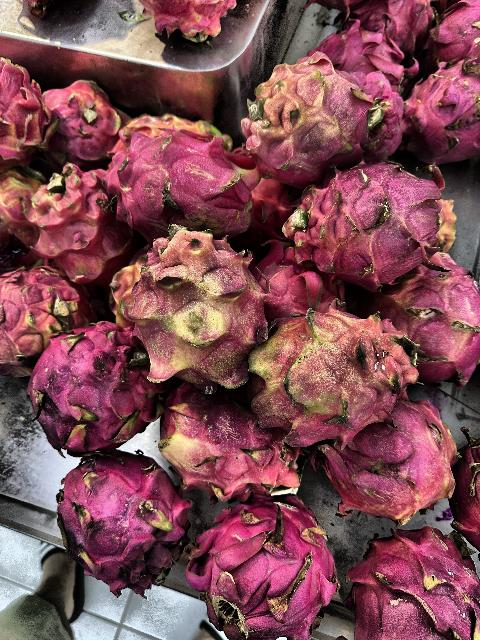buah-naga-belum-matang: (241, 304, 412, 434), (160, 383, 324, 511), (117, 230, 253, 378), (29, 168, 153, 288), (246, 49, 366, 164), (0, 268, 100, 370), (0, 47, 50, 156), (0, 168, 54, 248)
buah-naga-matang: (42, 438, 202, 580), (187, 491, 331, 632), (332, 520, 480, 640), (295, 162, 449, 274), (28, 323, 168, 445), (326, 400, 468, 518), (120, 126, 256, 232), (388, 254, 480, 374), (406, 57, 480, 157), (346, 64, 418, 160), (44, 84, 120, 162), (318, 20, 416, 80), (351, 0, 435, 46), (430, 0, 480, 70)
